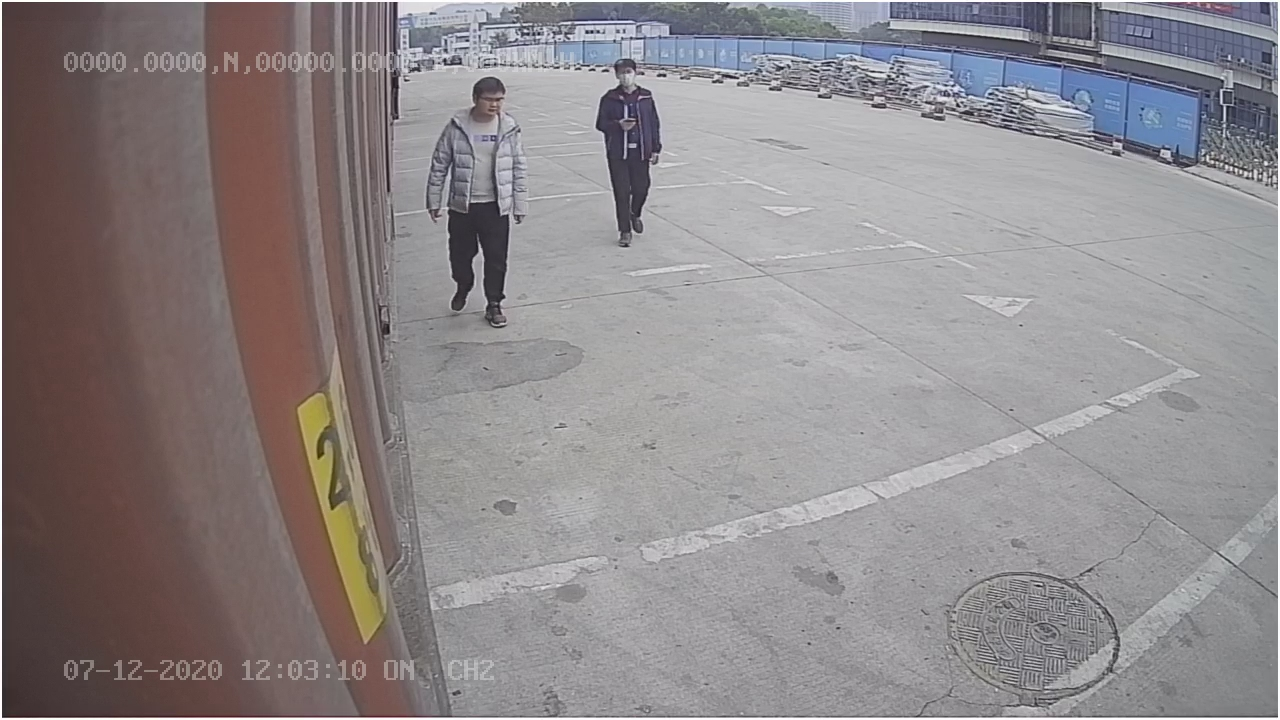person: (425, 67, 531, 328)
